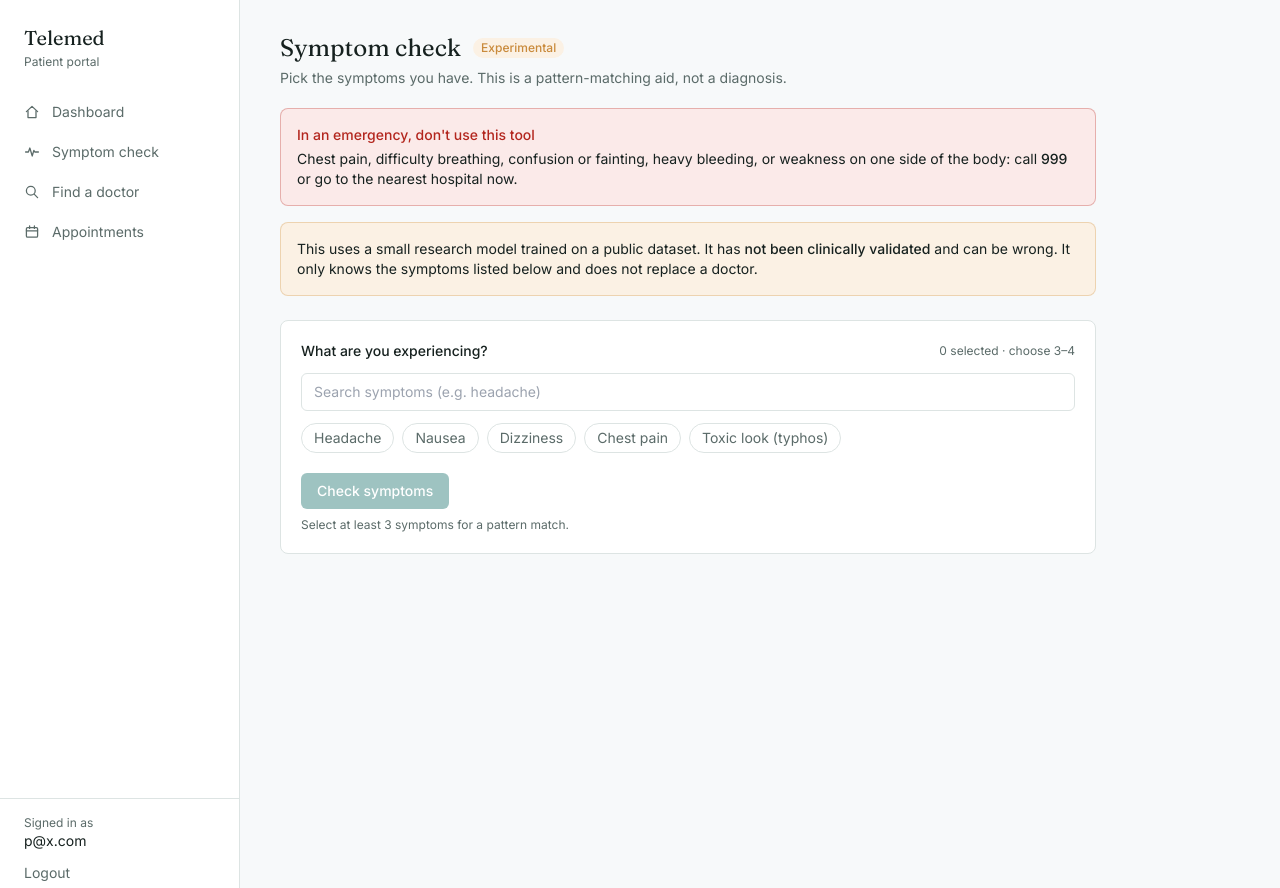
Test: SymptomAssessment › inconclusive result gives no condition and labels the specialty as a default, not model output
Click the button "Headache". click: (348, 438)
box: [301,423,394,453]
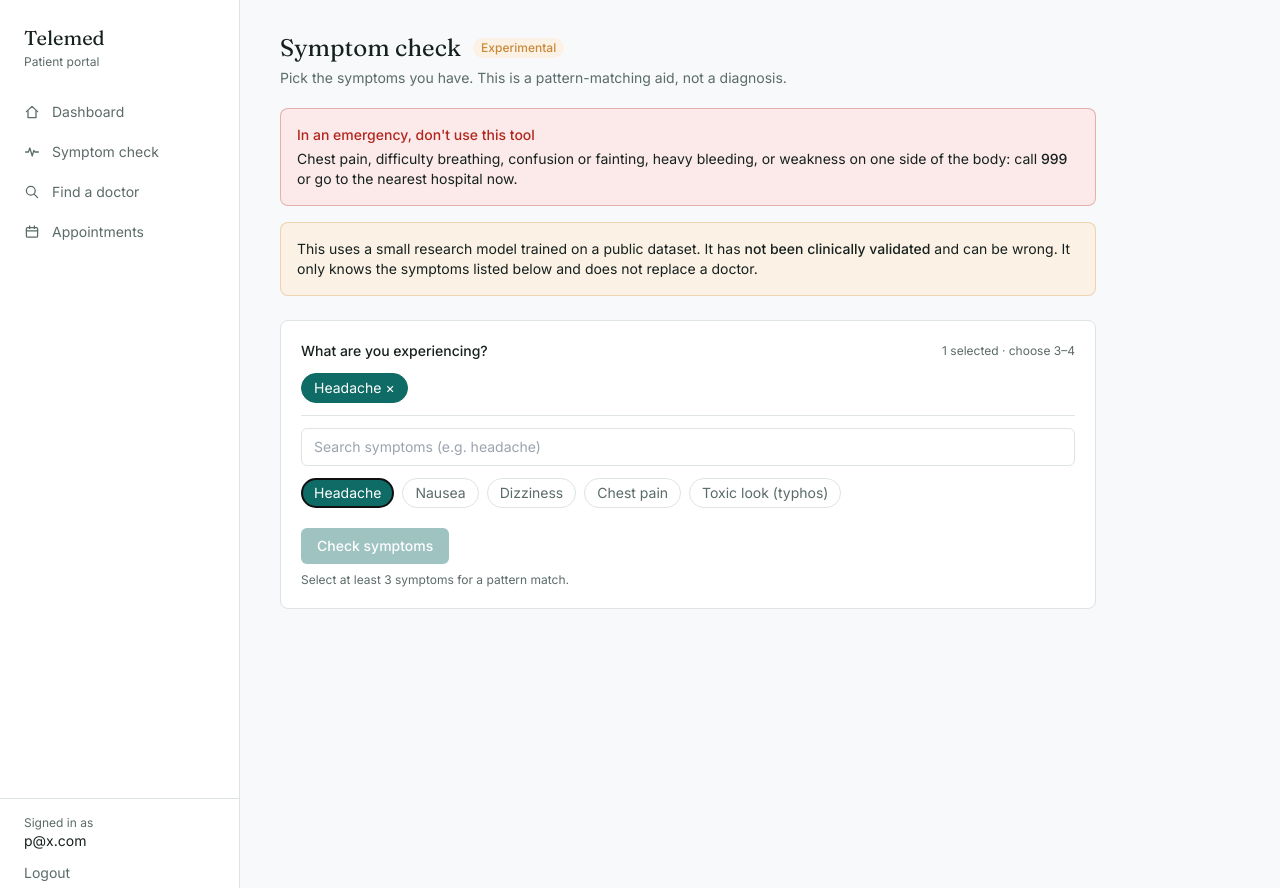
Click the button "Nausea". click: (441, 493)
box: [402,478,479,508]
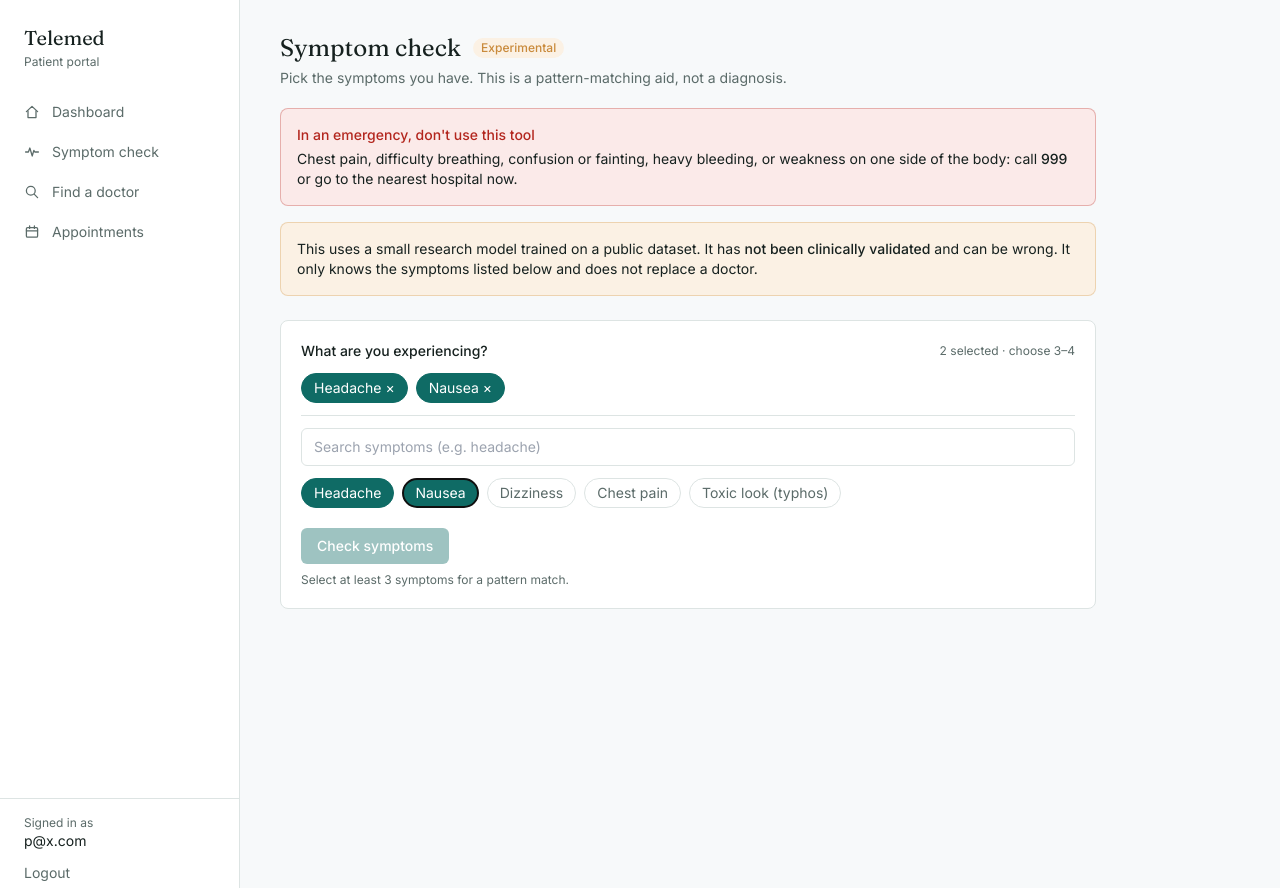
Click the button "Dizziness". click: (532, 493)
box: [487,478,576,508]
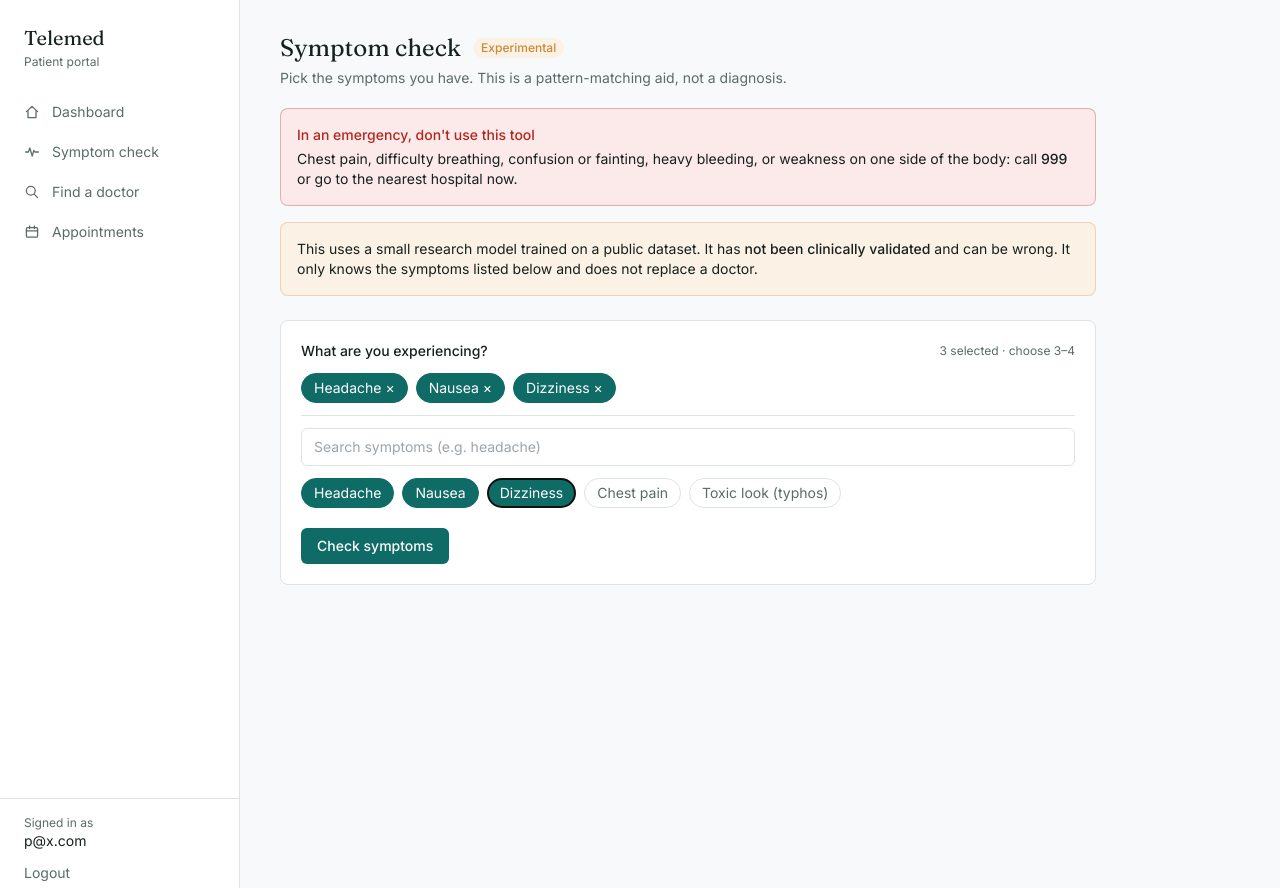
Click the button "Check symptoms". click: (375, 546)
box: [301,528,449,564]
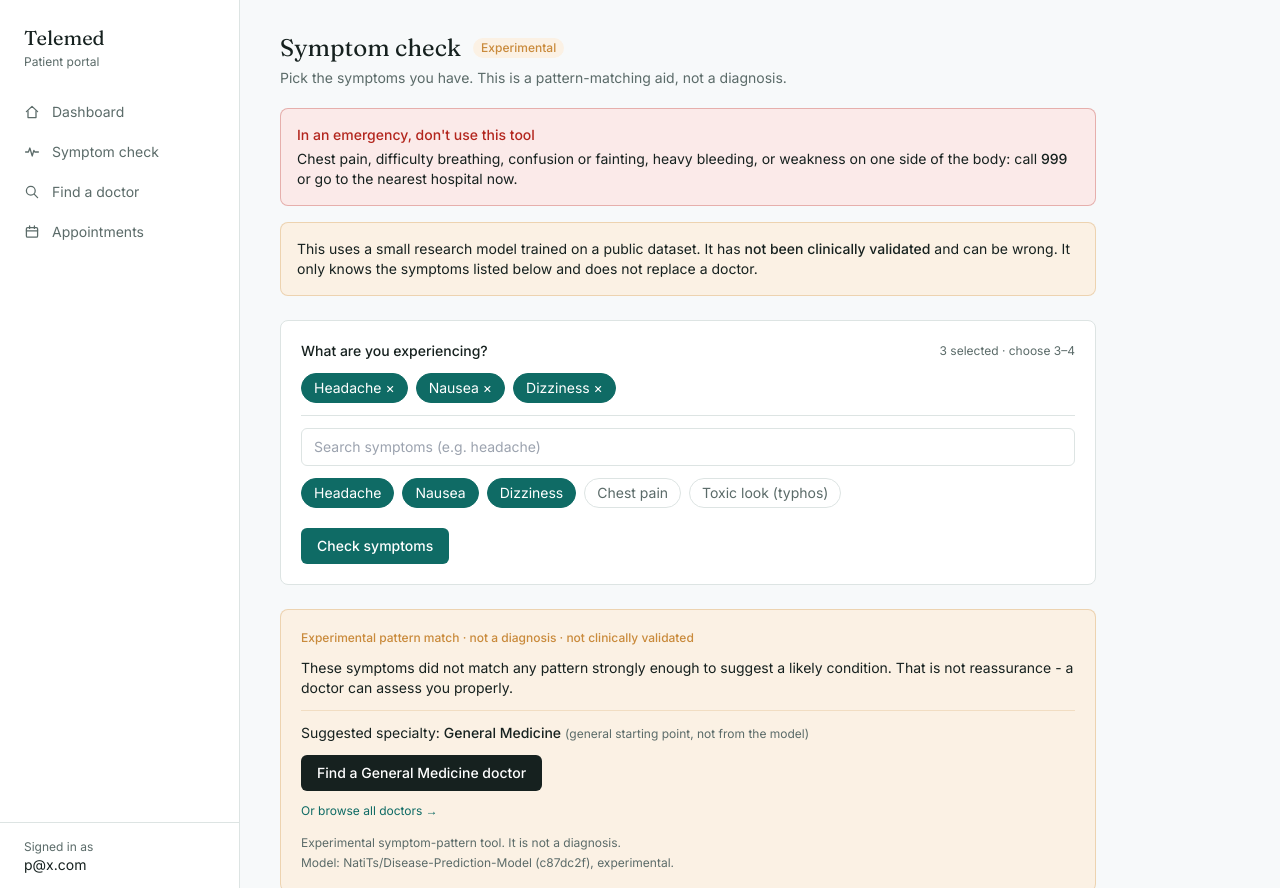
Check: the text "did not match any pattern strongly enough" is shown, box [301,659,1073,696]
Check: the text "(general starting point, not from the model)" is shown, box [565,726,809,741]
